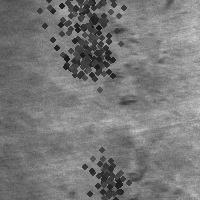rolled-in_scale: (45, 3, 139, 97), (22, 0, 136, 70), (98, 22, 148, 113), (79, 148, 135, 200), (54, 0, 124, 35), (56, 35, 102, 81)
